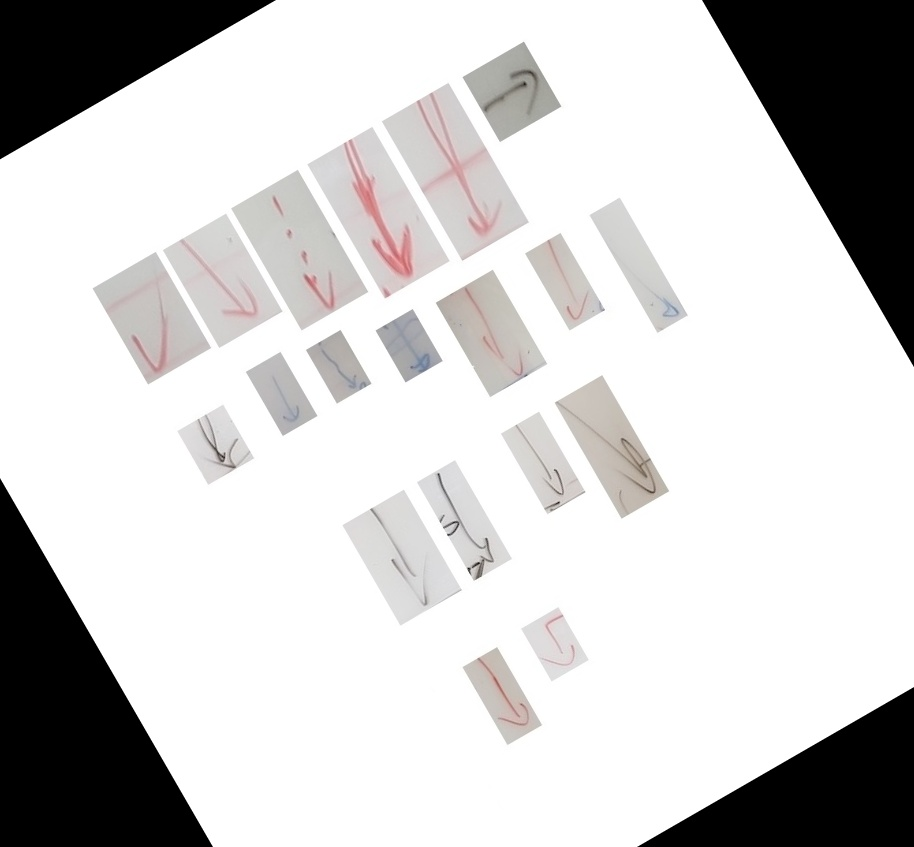arrow: (336, 221, 457, 324), (478, 78, 574, 198), (431, 149, 510, 286), (365, 558, 471, 649), (455, 342, 556, 429), (188, 289, 287, 373), (121, 340, 223, 408), (514, 475, 598, 543), (600, 453, 656, 551), (296, 267, 348, 357), (454, 527, 504, 613), (258, 416, 328, 473), (191, 467, 266, 516), (388, 371, 457, 419), (556, 290, 599, 366), (318, 388, 383, 438), (496, 712, 534, 777), (539, 675, 599, 715), (649, 309, 683, 368)
